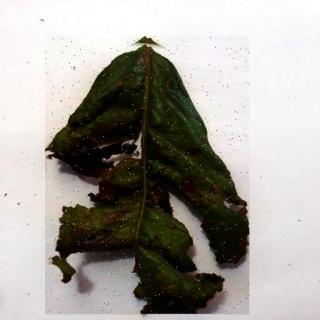Algal Leaf: (46, 37, 250, 316)
